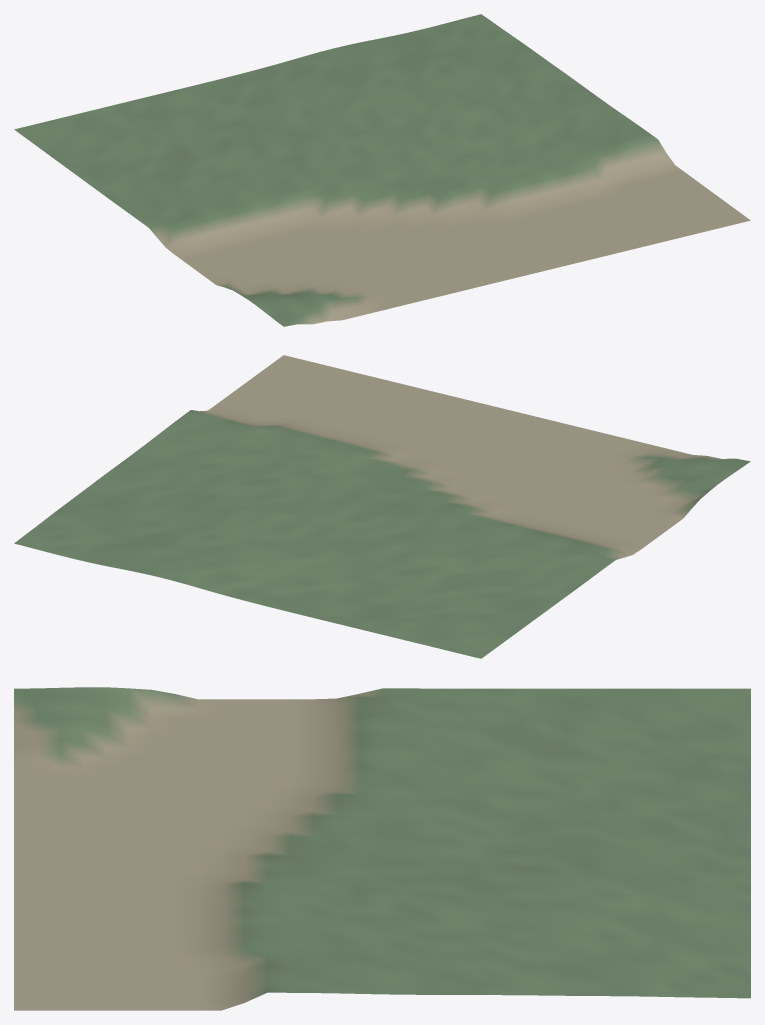
3 renders of one model, top to bottom at view 1: azimuth 30°, elevation 25°; view 2: azimuth 150°, elevation 25°; view 3: azimuth 270°, elevation 25°, orthographic. The views are drawn at different scales.
Parts seen in each view (by area): view 1: Terrain-col; view 2: Terrain-col; view 3: Terrain-col.
Part boxes in pixels (bbox=[...]): Terrain-col: bbox=[14, 14, 750, 326]; Terrain-col: bbox=[14, 355, 750, 658]; Terrain-col: bbox=[14, 687, 750, 1010].
Bounding box in the file's own units: 256 × 6.94 × 256.
